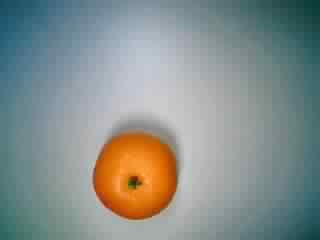orange: (82, 124, 177, 226)
